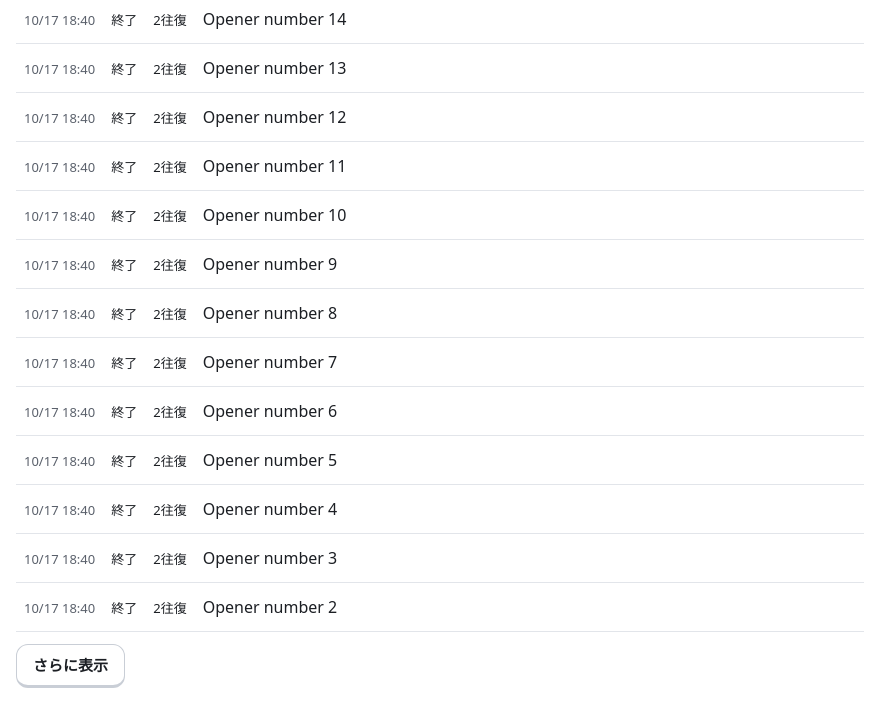
it: HomeScreen › keeps the loaded rows when the next page fails, and 再読み込み loads it
The width and height of the screenshot is (881, 720).
(page scrolled)
Step 1. Click the button "さらに表示" → [70, 666], box 16,644 -> 125,688
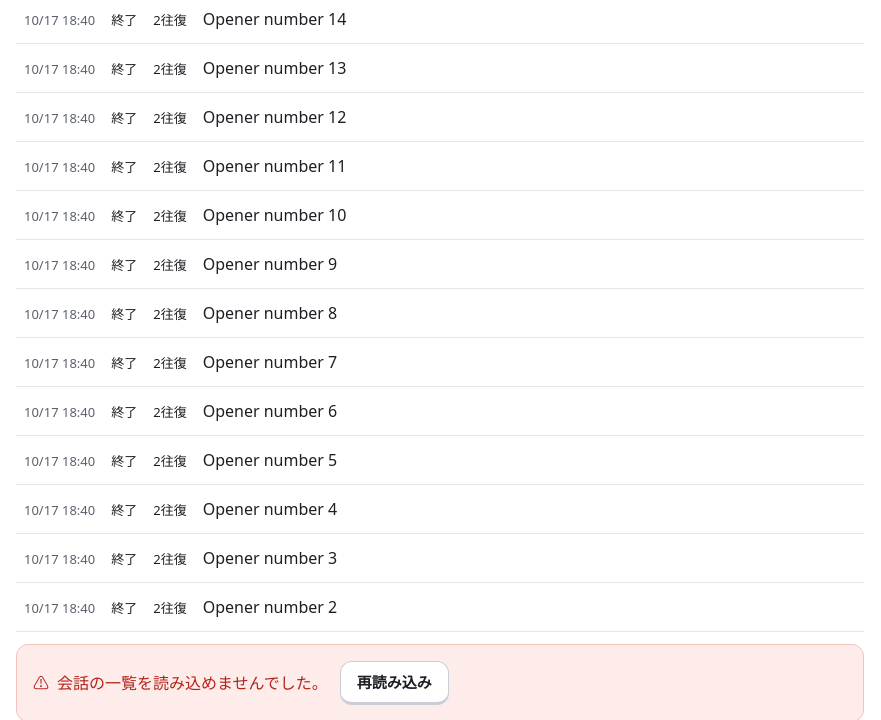
Result: the message shows "会話の一覧を読み込めませんでした。" at 57,672 -> 328,694
Result: the button "さらに表示" is gone
Step 2. Click the button "再読み込み" → [394, 683], box 340,661 -> 449,705
(page scrolled)
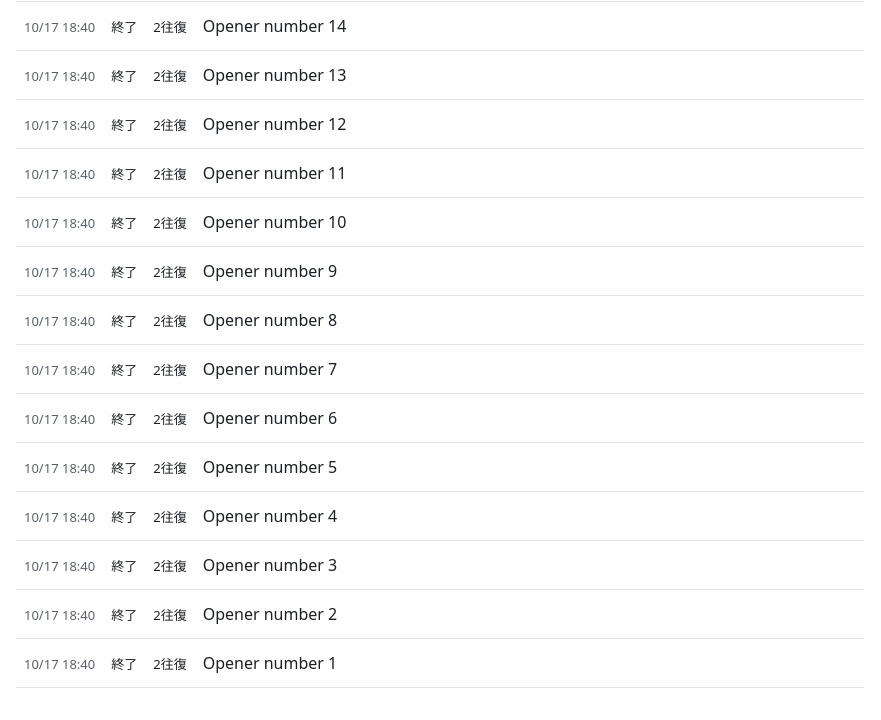
Result: the text "Opener number 1" is shown at 203,652 -> 337,674
Result: the number of links is 21
Result: the text "会話の一覧を読み込めませんでした。" is gone
